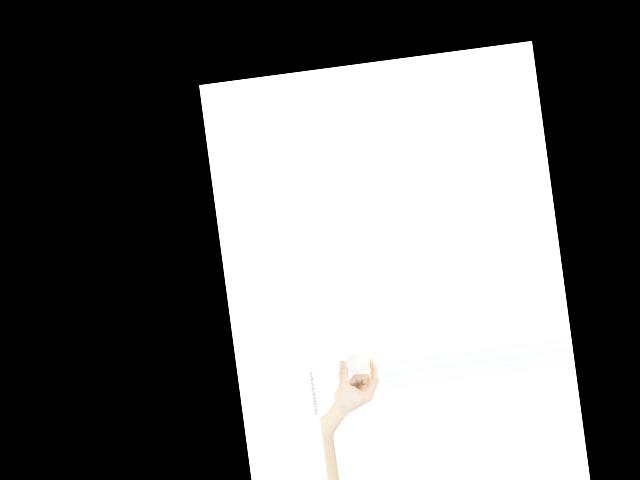egg: (344, 353, 371, 374)
